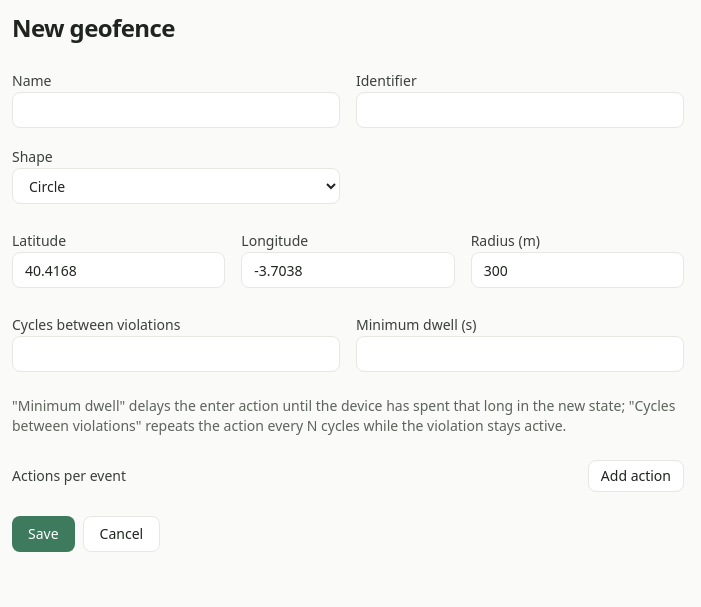
it: los mensajes de validación respetan el idioma activo (M1-R27, C15)
Click the button "Save": coordinates (43, 534) [12,516,75,552]
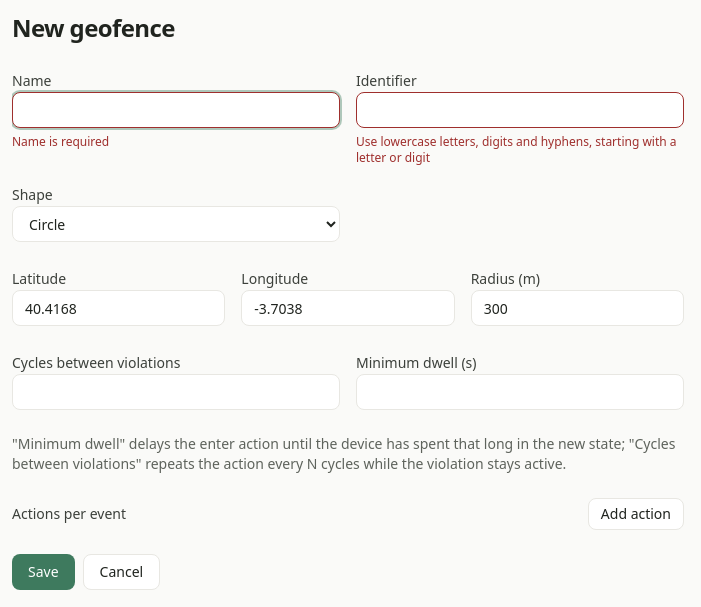
Expected: the text "Name is required" is shown, [12,133,109,150]
